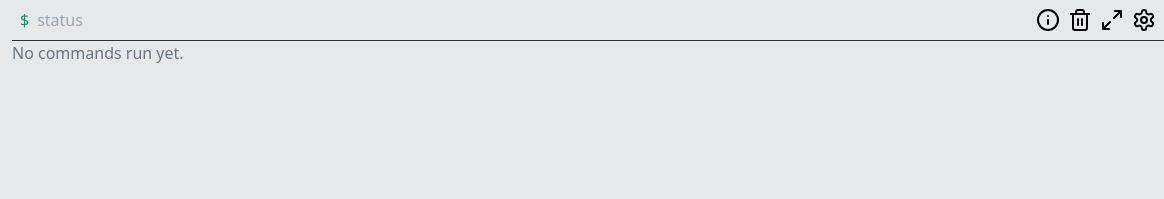
Test case: MinimaConsolePanel › notifies progress refresh after a wrapped resync returns its accepted DTO
Type "megammrsync action:resync" into the field with placeholder "status". click: [533, 20]
box: [37,8,1028,32]
Then press Enter
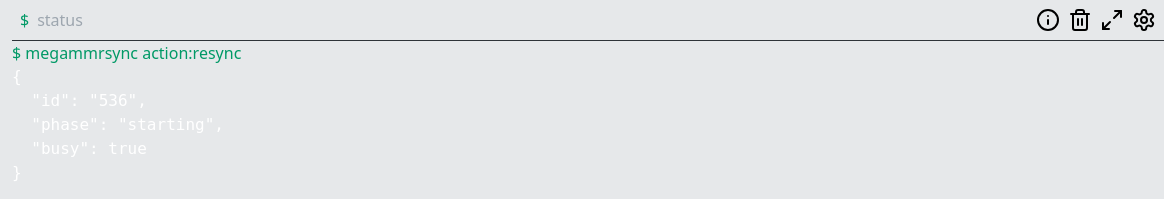
Expected: the text "{ \"id\": \"536\", \"phase\": \"starting\", \"busy\": true }" is shown, [12,67,224,182]
